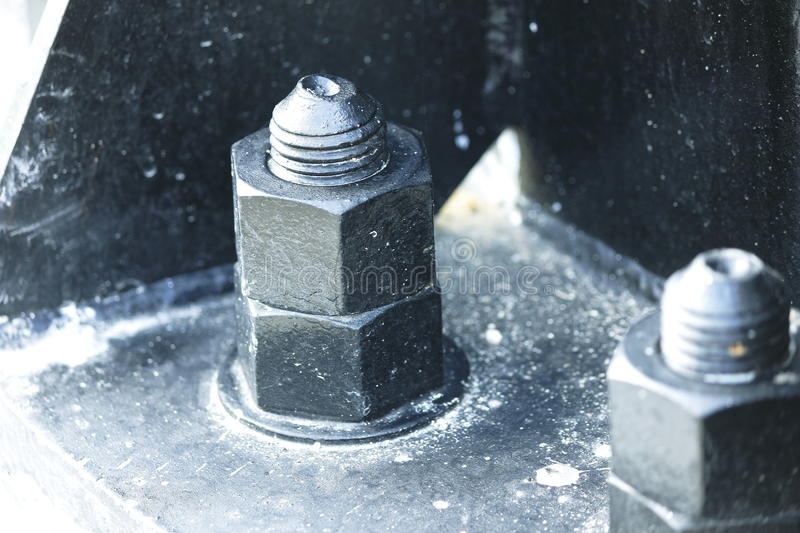bolt_b: (224, 100, 441, 315), (601, 280, 797, 510)
